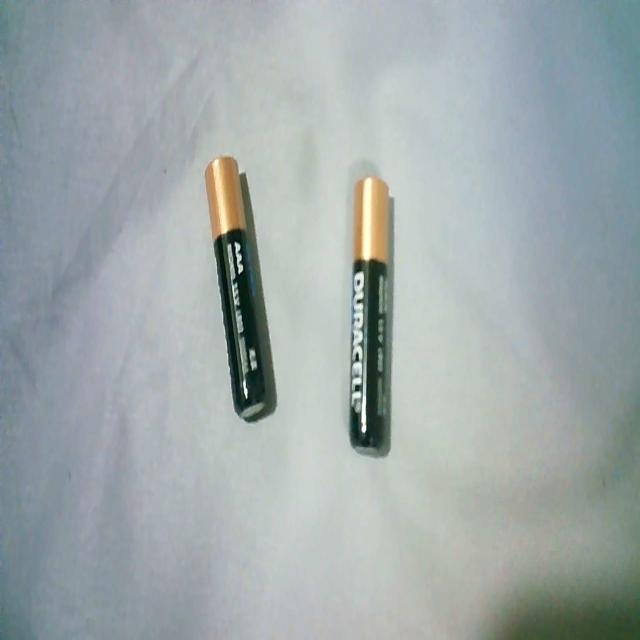AAA: (202, 150, 275, 426), (344, 168, 398, 460)
